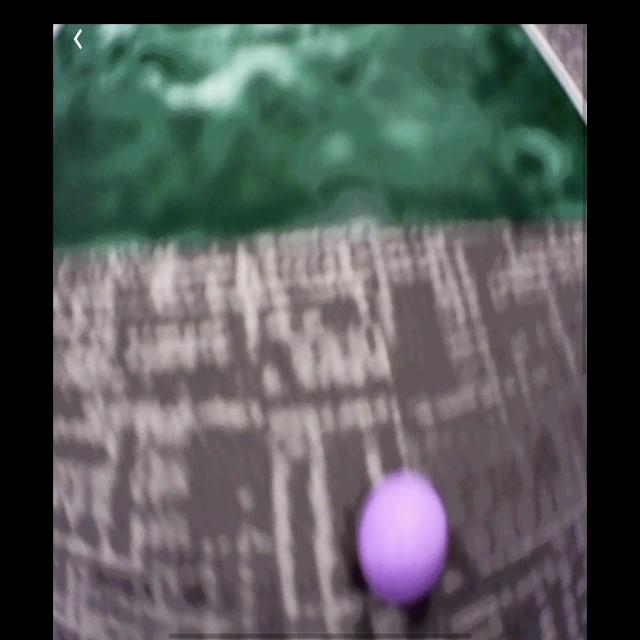ball: (358, 471, 451, 603)
